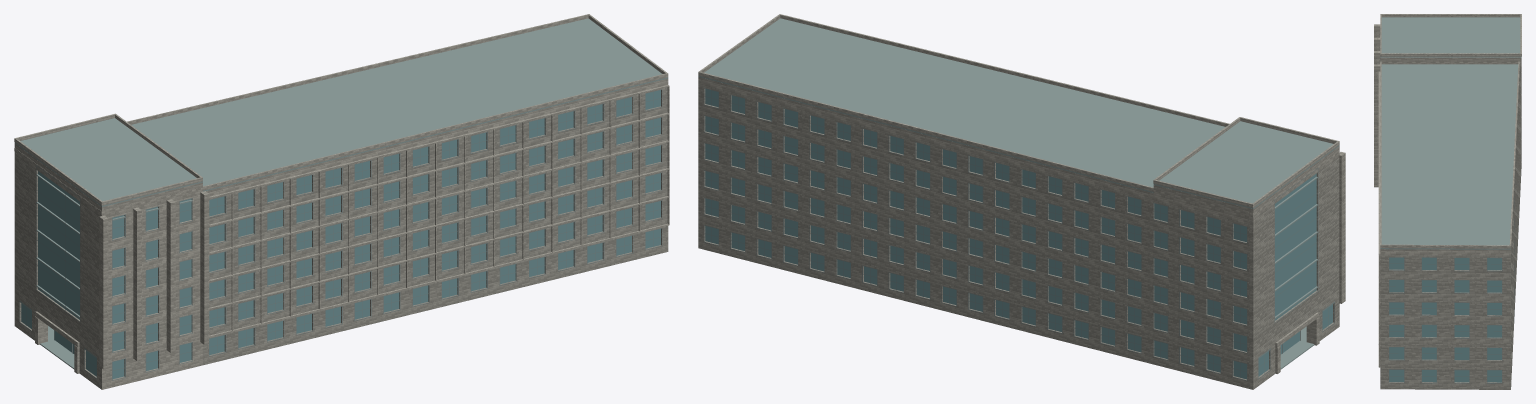
The picture shows the model from 3 angles, left to right: view 1: azimuth 30°, elevation 25°; view 2: azimuth 150°, elevation 25°; view 3: azimuth 270°, elevation 25°; orthographic projection. The views are drawn at different scales.
Parts seen in each view (by area): view 1: politicalEconomics__stone, politicalEconomics__roof, politicalEconomics__cream, politicalEconomics__glass, politicalEconomics__frame; view 2: politicalEconomics__stone, politicalEconomics__roof, politicalEconomics__glass, politicalEconomics__cream, politicalEconomics__frame; view 3: politicalEconomics__roof, politicalEconomics__stone, politicalEconomics__cream, politicalEconomics__glass, politicalEconomics__frame.
Boxes of the visible parts, bbox=[...] form: politicalEconomics__stone: bbox=[14, 87, 668, 389]; politicalEconomics__roof: bbox=[14, 18, 668, 369]; politicalEconomics__cream: bbox=[14, 14, 669, 389]; politicalEconomics__glass: bbox=[21, 90, 660, 378]; politicalEconomics__frame: bbox=[19, 89, 662, 380]; politicalEconomics__stone: bbox=[698, 83, 1339, 389]; politicalEconomics__roof: bbox=[698, 18, 1339, 369]; politicalEconomics__glass: bbox=[705, 89, 1332, 379]; politicalEconomics__cream: bbox=[698, 14, 1345, 373]; politicalEconomics__frame: bbox=[704, 88, 1334, 380]; politicalEconomics__roof: bbox=[1380, 17, 1521, 249]; politicalEconomics__stone: bbox=[1380, 66, 1521, 389]; politicalEconomics__cream: bbox=[1374, 14, 1521, 367]; politicalEconomics__glass: bbox=[1389, 257, 1501, 382]; politicalEconomics__frame: bbox=[1389, 86, 1521, 383].
Size of the model in its own units: 78.54 by 24.69 by 21.77.
Materials: 5 (2 with a texture image).
